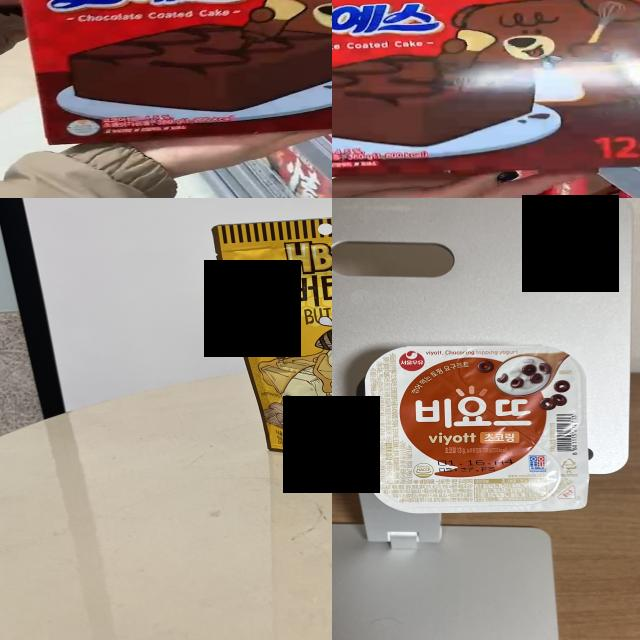bYott: (368, 346, 586, 508)
honeyAmond: (205, 206, 332, 467)
ohYes: (332, 0, 640, 179), (32, 0, 332, 120)
